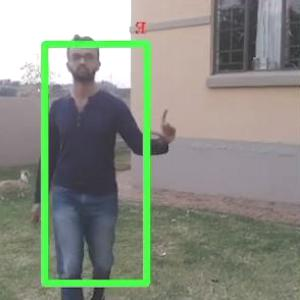land_hand: (144, 103, 183, 148)
